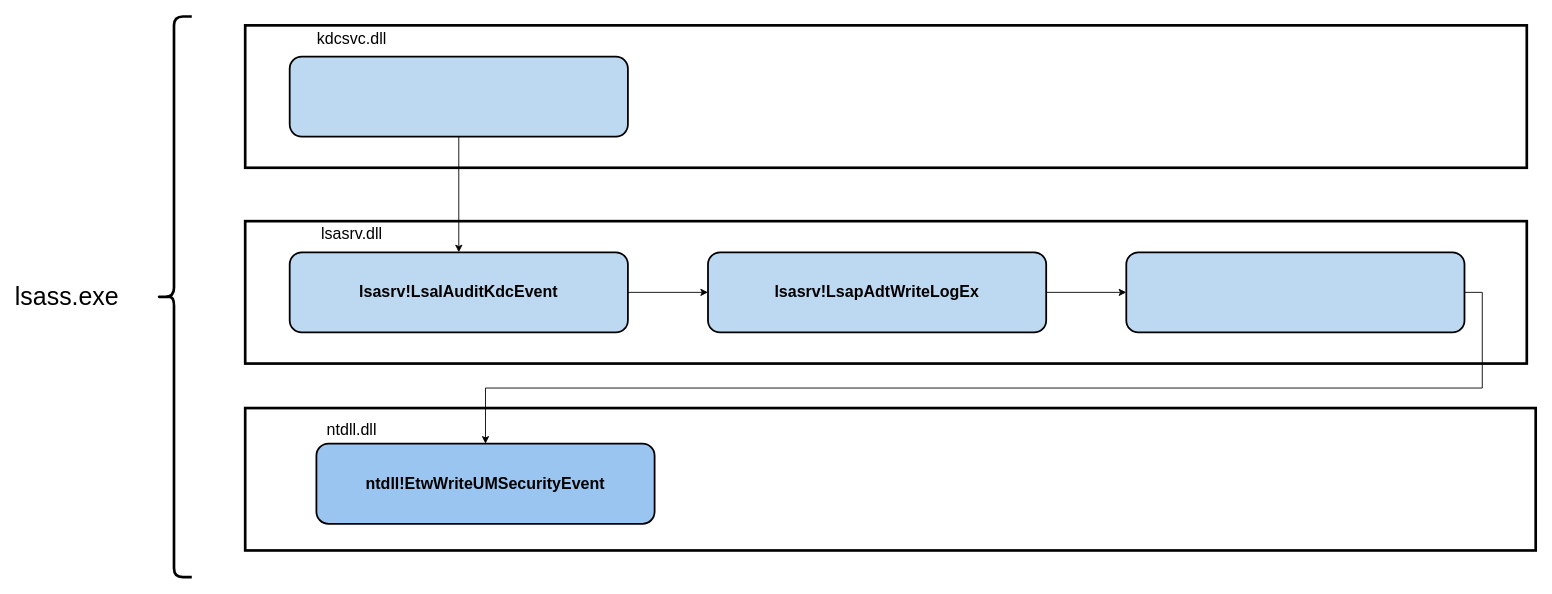
Image size: 1552x594. Some labels were removed from this diagram. The centre of each missing label's shape, as x and y in pixels:
I_GetASTicket: pixel 458 96
lsasrv!AdtpWriteToEtw: pixel 1295 292
